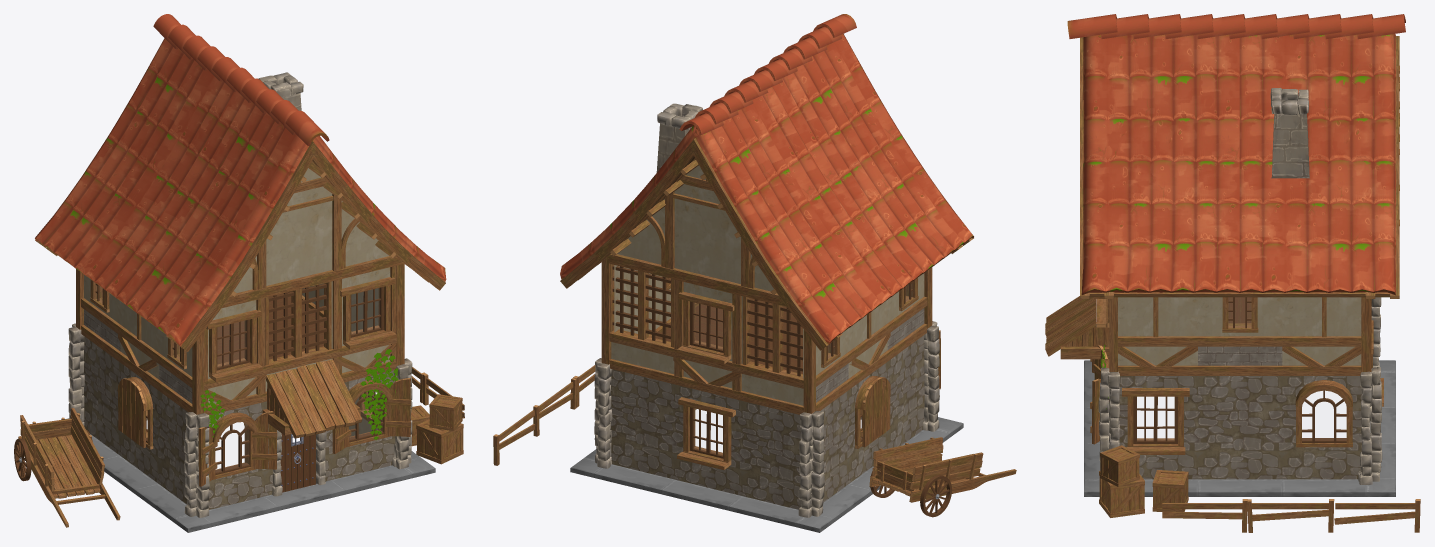
Rendered from cottage.glb.
The picture shows the model from 3 angles, left to right: view 1: azimuth 30°, elevation 25°; view 2: azimuth 150°, elevation 25°; view 3: azimuth 270°, elevation 25°; orthographic projection. The views are drawn at different scales.
Visible parts, largest first — view 1: cottage; view 2: cottage; view 3: cottage.
Boxes of the visible parts, <box> form: cottage: <box>14,14,464,532</box>; cottage: <box>493,14,1016,532</box>; cottage: <box>1045,14,1420,532</box>.
Size of the model in its own units: 11.97 by 10.92 by 8.9.
Materials: 10 (9 with a texture image).
